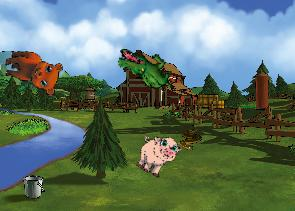bear: (1, 49, 63, 96)
crocodile: (114, 47, 178, 91)
pig: (131, 128, 183, 182)
